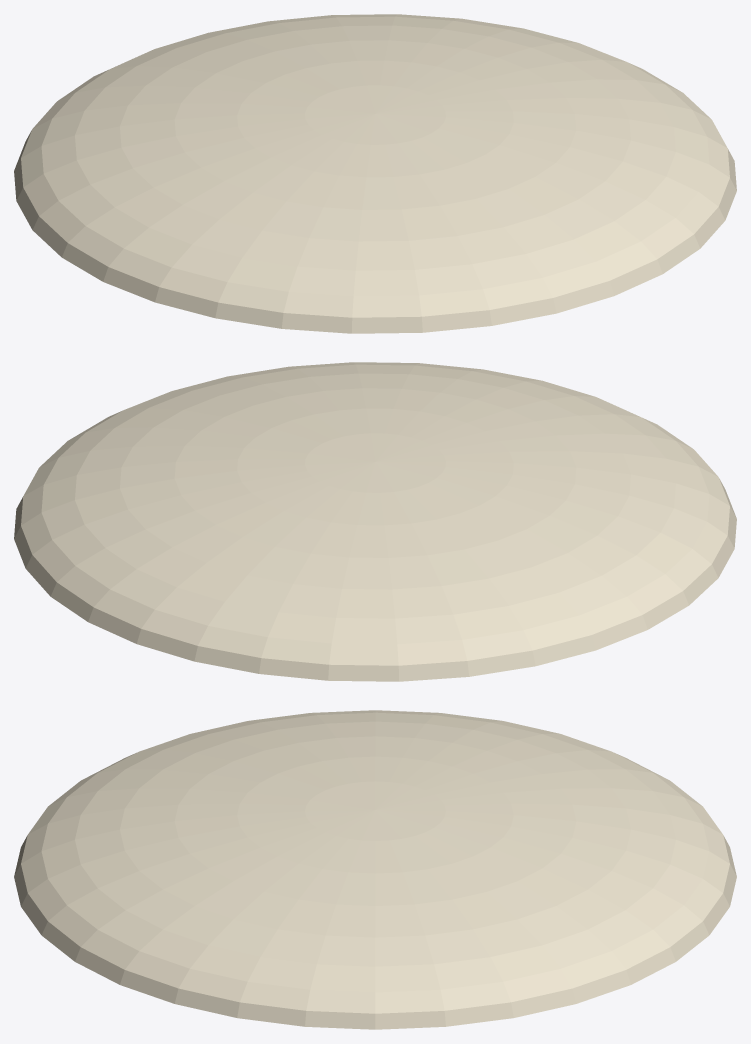
File: place-poverty-point.glb
3 views of the same model, one above another, from view 1: azimuth 30°, elevation 25°; view 2: azimuth 150°, elevation 25°; view 3: azimuth 270°, elevation 25° (orthographic).
Parts seen in each view (by area): view 1: place-poverty-point; view 2: place-poverty-point; view 3: place-poverty-point.
Boxes of the visible parts, x1=… form: place-poverty-point: x1=14, y1=14, x2=736, y2=333; place-poverty-point: x1=14, y1=362, x2=736, y2=681; place-poverty-point: x1=14, y1=710, x2=736, y2=1029.
Bounding box in the file's own units: 215 × 22 × 215.
